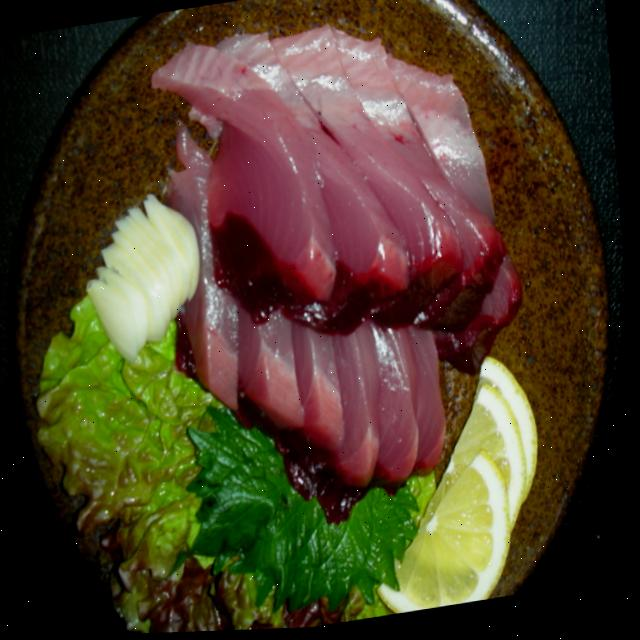刺身生食: (84, 0, 579, 593)
